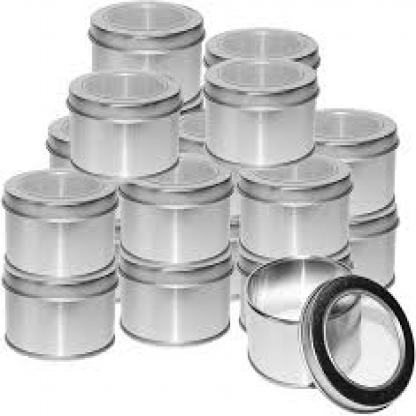METAL: (244, 253, 360, 389), (299, 275, 414, 412), (2, 168, 115, 283), (87, 0, 203, 109), (237, 151, 349, 257), (121, 159, 228, 269), (202, 60, 313, 164), (67, 72, 179, 172), (2, 267, 113, 356), (119, 256, 228, 342), (312, 108, 394, 220), (179, 108, 237, 224), (322, 207, 393, 286), (203, 25, 317, 74), (175, 106, 204, 157), (46, 118, 69, 168)
